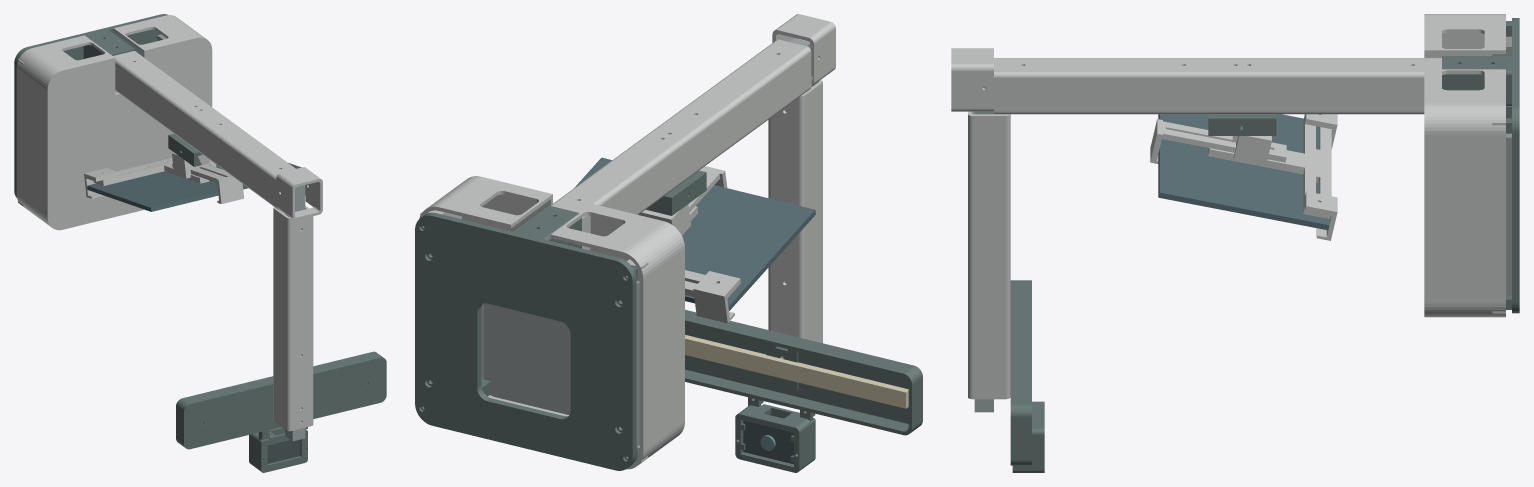
File: assembly_view_only.glb
3 views of the same model, side by side, from view 1: azimuth 30°, elevation 25°; view 2: azimuth 150°, elevation 25°; view 3: azimuth 270°, elevation 25° (orthographic). The views are drawn at different scales.
Parts seen in each view (by area): view 1: 02_rounded_mac_shell, 08_rounded_LED_head, 03_column_lower_240, 06_arm_front_165, 04_column_upper_220, 05_arm_rear_156, iPad_Pro_11_envelope, 01_hidden_chassis, 07_corner_cover, 12_open_screen_carrier, 15_screen_sliding_upper_jaw, 10_camera_rear_keeper (+5 smaller); view 2: 01_hidden_chassis, 02_rounded_mac_shell, 08_rounded_LED_head, iPad_Pro_11_envelope, 04_column_upper_220, Mac_mini_envelope, 03_column_lower_240, 05_arm_rear_156, 06_arm_front_165, LED_aluminum_envelope, 09_UGREEN_59x35x23_cradle, 07_corner_cover (+6 smaller); view 3: 02_rounded_mac_shell, 03_column_lower_240, 04_column_upper_220, iPad_Pro_11_envelope, 06_arm_front_165, 05_arm_rear_156, 01_hidden_chassis, 08_rounded_LED_head, 12_open_screen_carrier, 07_corner_cover, 15_screen_sliding_upper_jaw, 11_column_slide_dock (+3 smaller).
Boxes of the visible parts, x1,y1,x2,y2 form: 02_rounded_mac_shell: (16, 15, 212, 230); 08_rounded_LED_head: (176, 351, 386, 449); 03_column_lower_240: (113, 51, 222, 150); 06_arm_front_165: (273, 311, 313, 431); 04_column_upper_220: (197, 115, 295, 210); 05_arm_rear_156: (273, 206, 313, 321); iPad_Pro_11_envelope: (87, 163, 301, 211); 01_hidden_chassis: (14, 14, 167, 197); 07_corner_cover: (276, 167, 322, 220); 12_open_screen_carrier: (93, 152, 216, 185); 15_screen_sliding_upper_jaw: (172, 163, 244, 203); 10_camera_rear_keeper: (259, 429, 307, 472); 01_hidden_chassis: (415, 205, 637, 470); 02_rounded_mac_shell: (419, 176, 684, 469); 08_rounded_LED_head: (685, 309, 922, 435); iPad_Pro_11_envelope: (574, 157, 815, 310); 04_column_upper_220: (668, 39, 811, 168); Mac_mini_envelope: (484, 303, 570, 414); 03_column_lower_240: (550, 120, 701, 250); 05_arm_rear_156: (768, 78, 822, 237); 06_arm_front_165: (768, 223, 822, 343); LED_aluminum_envelope: (685, 335, 908, 408); 09_UGREEN_59x35x23_cradle: (735, 397, 813, 472); 07_corner_cover: (772, 14, 835, 85); 02_rounded_mac_shell: (1424, 14, 1505, 317); 03_column_lower_240: (1208, 58, 1441, 114); 04_column_upper_220: (994, 58, 1208, 114); iPad_Pro_11_envelope: (1158, 114, 1329, 230); 06_arm_front_165: (968, 252, 1010, 399); 05_arm_rear_156: (968, 111, 1010, 253); 01_hidden_chassis: (1442, 18, 1519, 313); 08_rounded_LED_head: (1010, 280, 1031, 465); 12_open_screen_carrier: (1208, 114, 1331, 218); 07_corner_cover: (951, 48, 993, 111); 15_screen_sliding_upper_jaw: (1150, 119, 1286, 163); 11_column_slide_dock: (1208, 114, 1276, 135).
Size of the model in its own units: 320 by 457 by 584.
